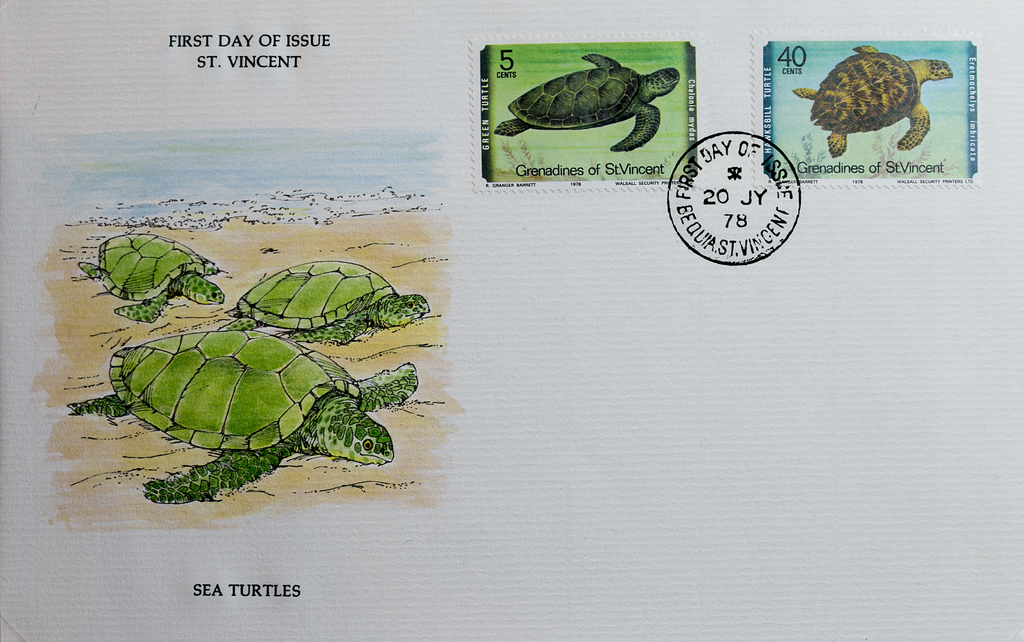Sea turtles: (62, 326, 419, 509), (488, 52, 680, 153), (215, 258, 430, 344), (791, 44, 954, 157), (74, 230, 224, 325)
